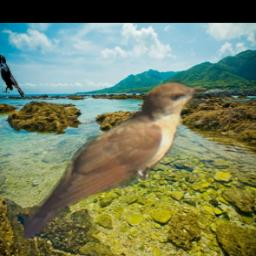Crow: (0, 55, 26, 98)
Cuckoo: (24, 81, 210, 240)
